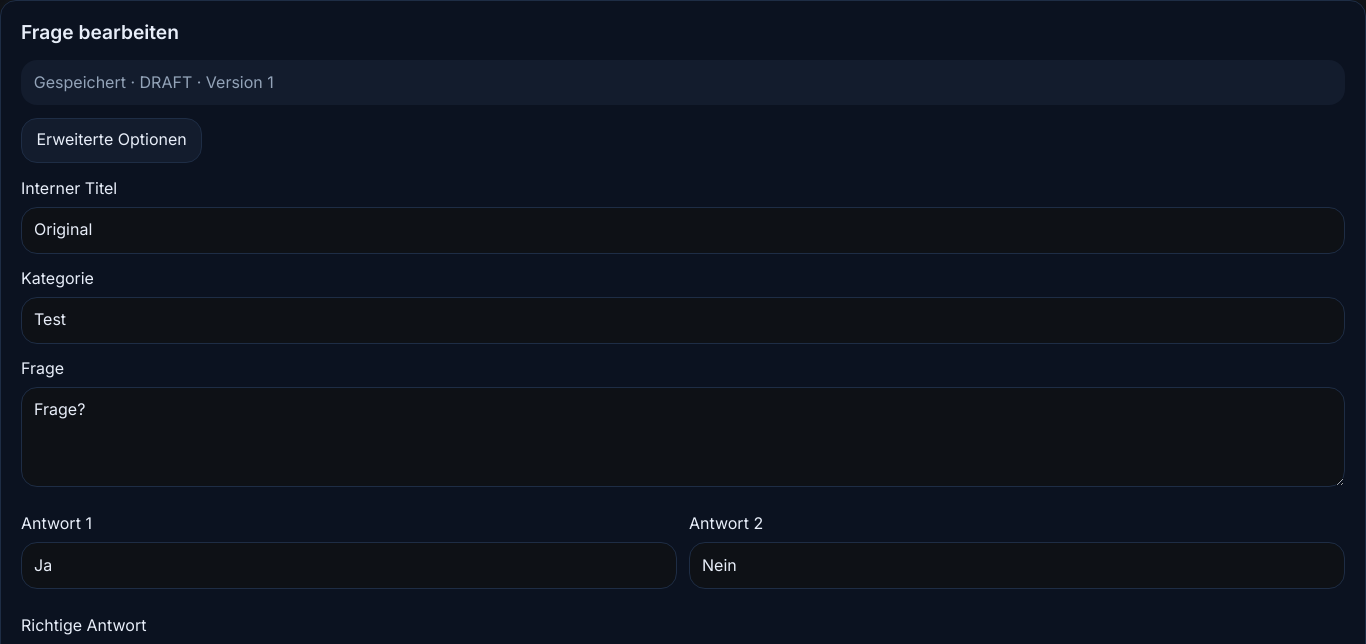
Test: retains advanced values across quick-mode switches
Step 1. Click the button "Erweiterte Optionen" → [112, 140], box [21,118,202,163]
(page scrolled)
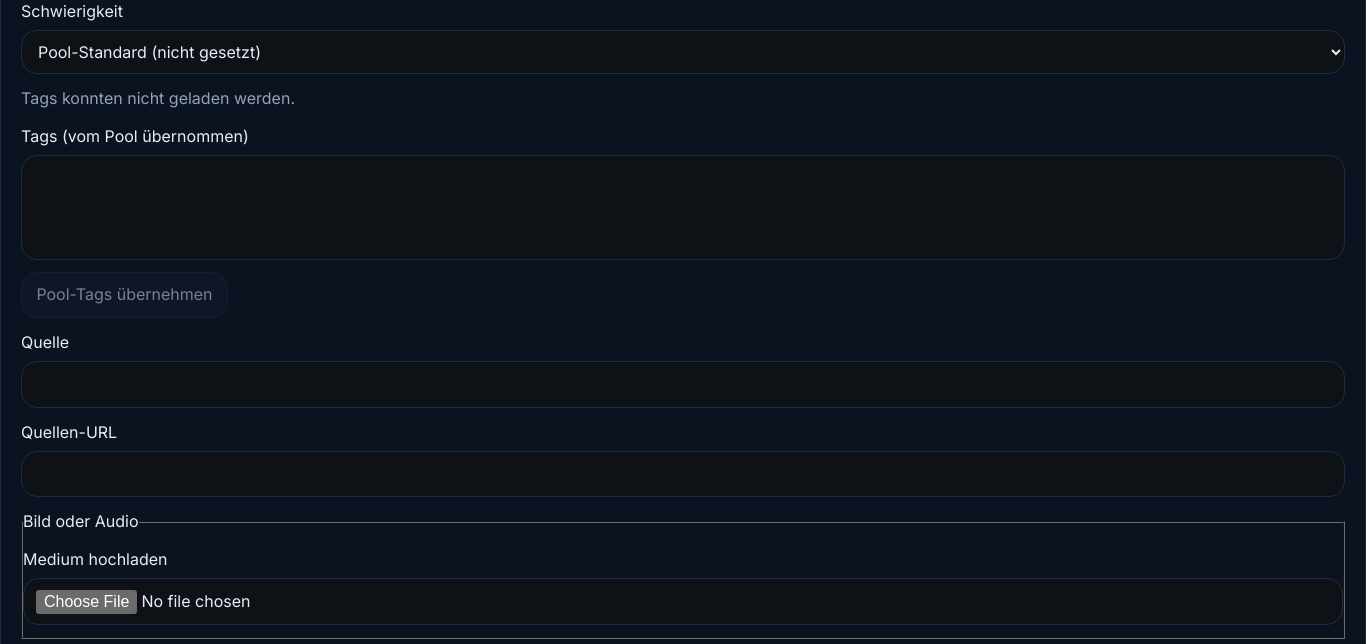
Step 2. Type "Buch" into the field labelled "Quelle" → [683, 384], box [21,361,1345,408]
(page scrolled)
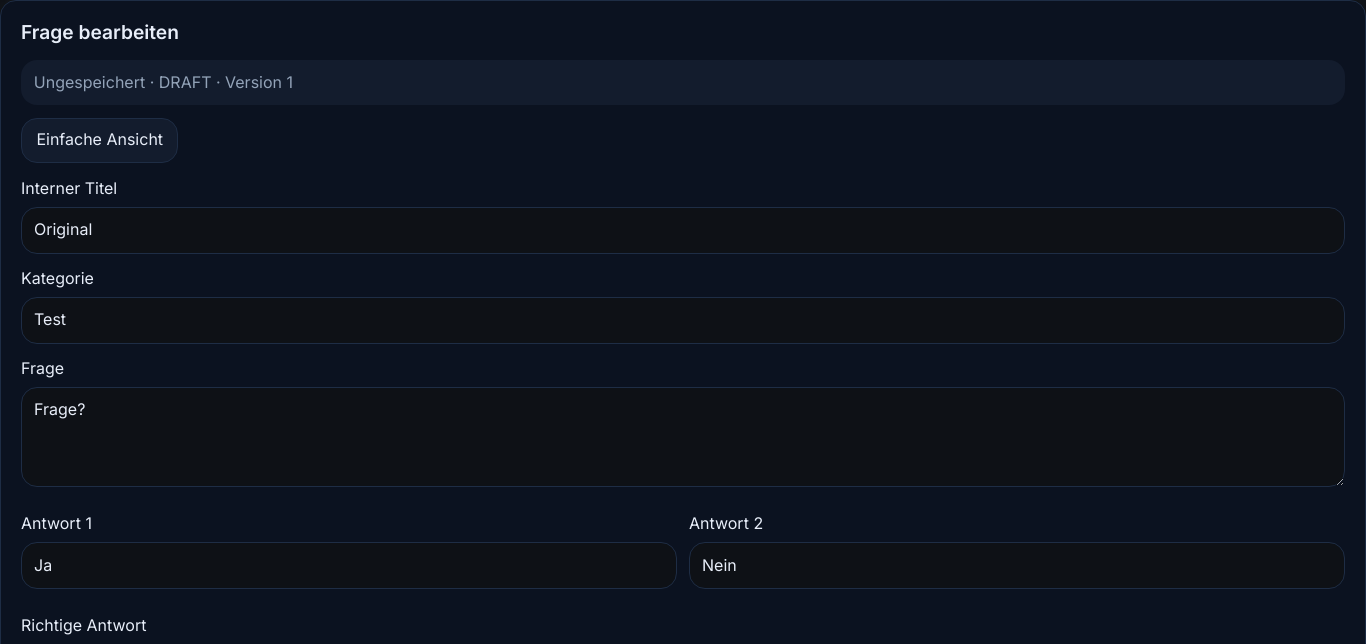
Step 3. Click the button "Einfache Ansicht" → [100, 140], box [21,118,178,163]
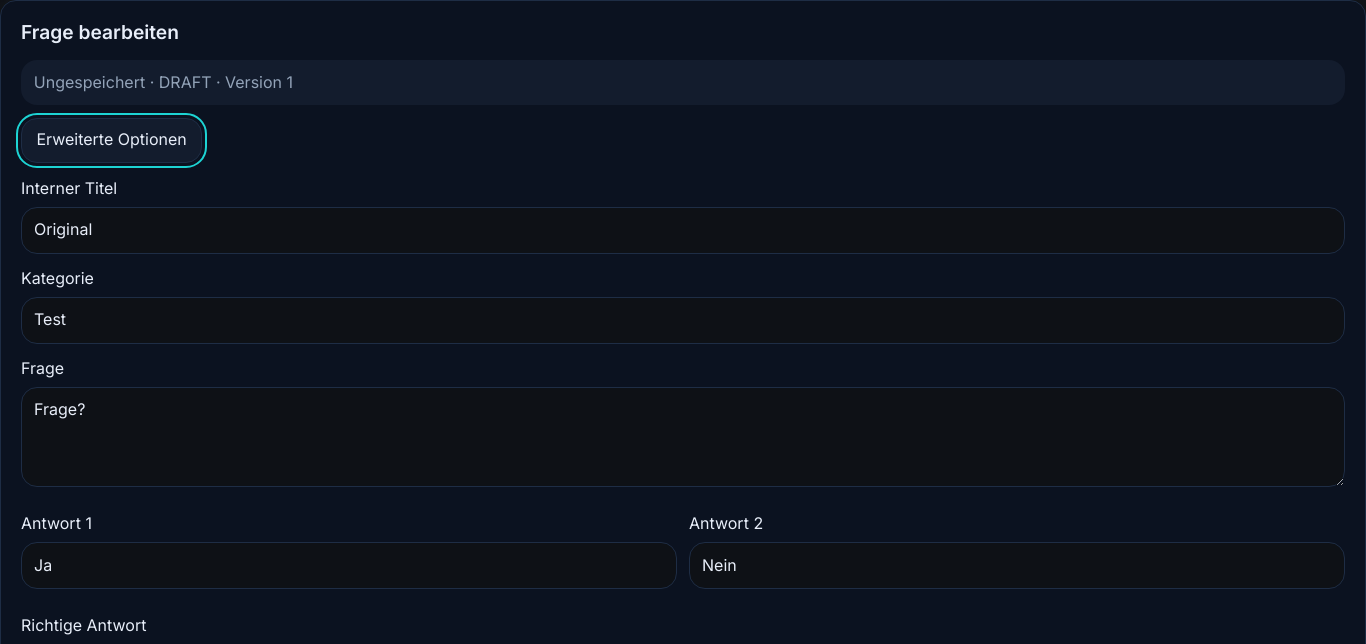
Step 4. Click the button "Erweiterte Optionen" → [112, 140], box [21,118,202,163]
(page scrolled)
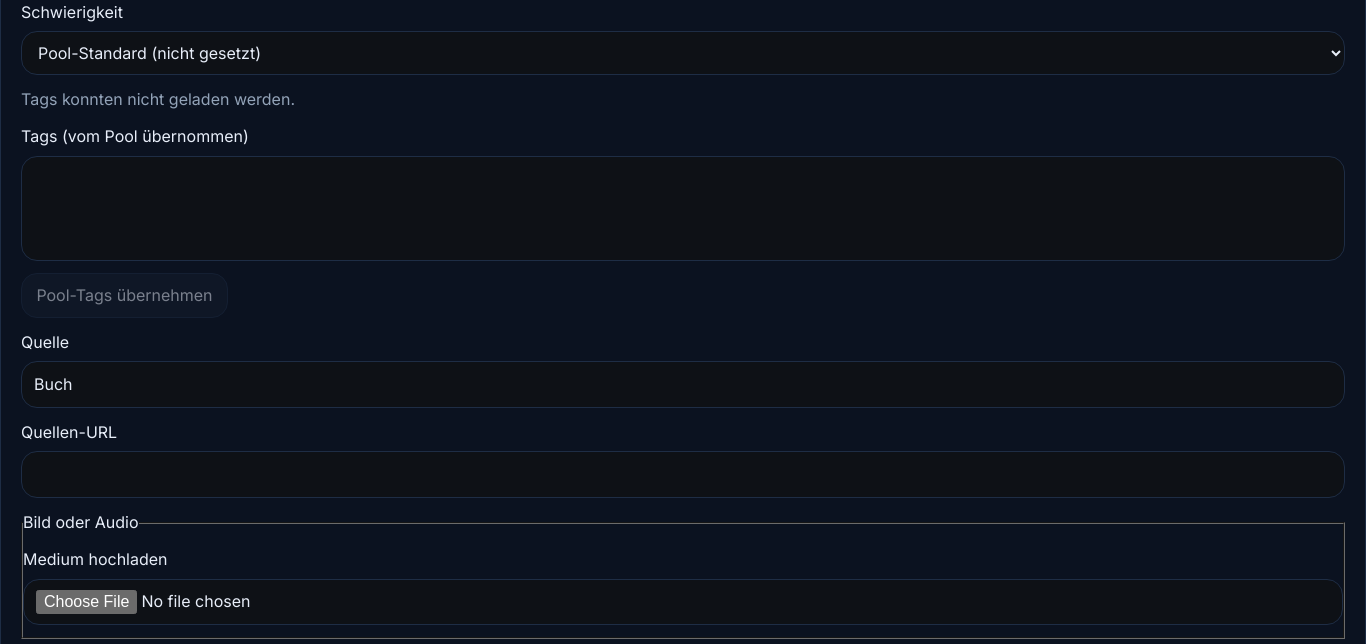
Expected: the field labelled "Quelle" holds "Buch", [21,361,1345,408]
